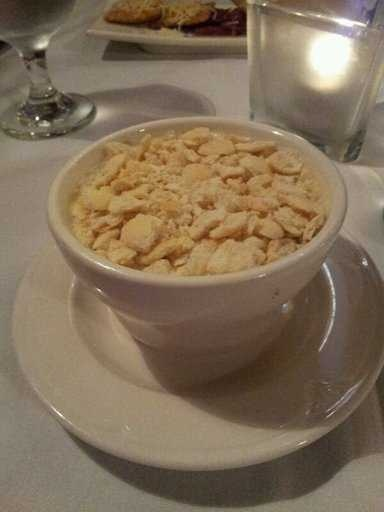soup: (38, 123, 343, 272)
